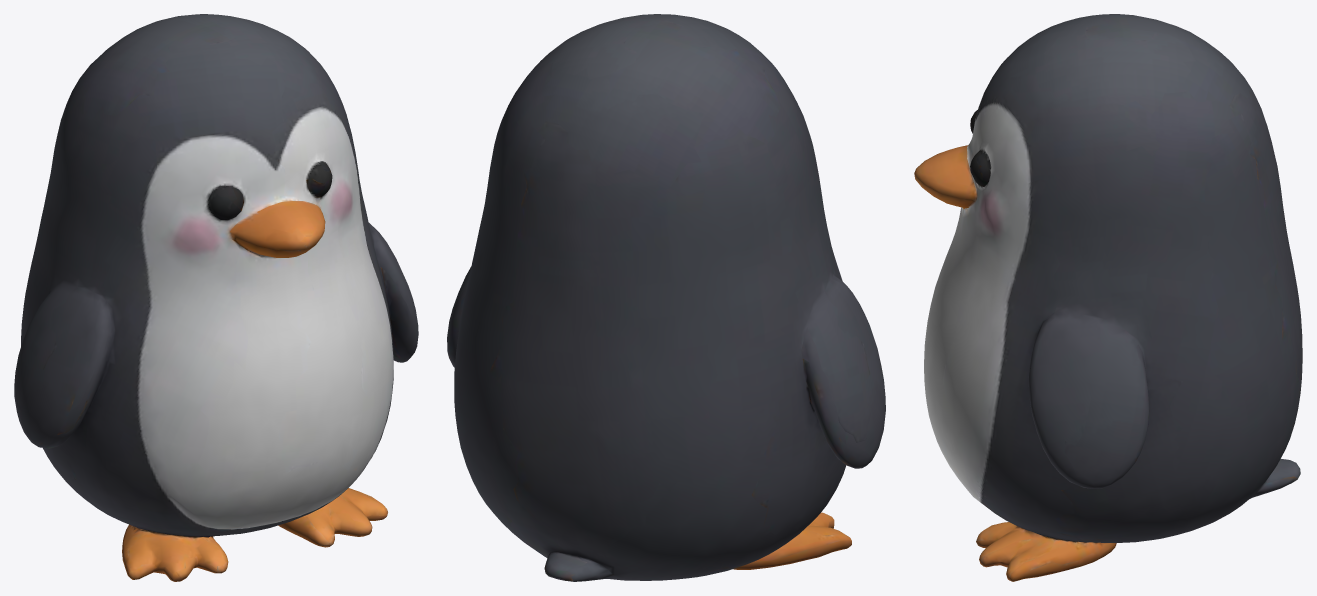
The model's file is penguin.glb.
3 renders of one model, left to right at view 1: azimuth 30°, elevation 25°; view 2: azimuth 150°, elevation 25°; view 3: azimuth 270°, elevation 25°, orthographic. The views are drawn at different scales.
Size of the model in its own units: 0.8237 by 1.01 by 0.7207.
1 material, 1 textured.
